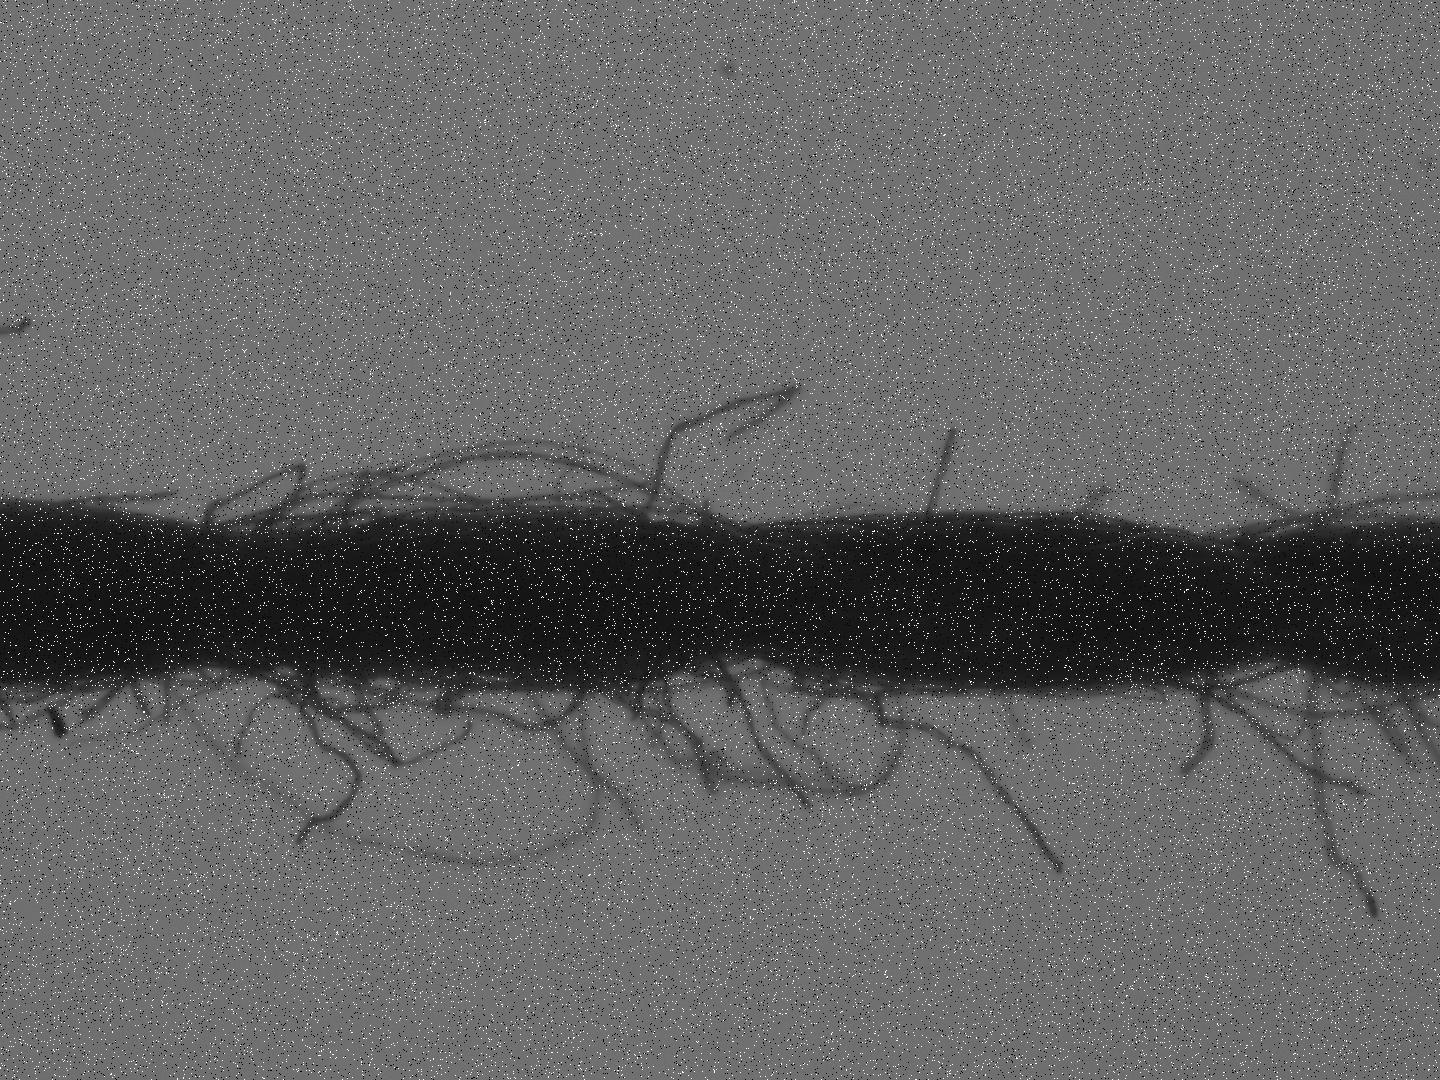loop_fiber: (307, 444, 753, 542), (337, 669, 590, 735), (1209, 666, 1429, 725), (194, 459, 312, 552), (288, 668, 414, 729), (1228, 512, 1404, 549), (660, 644, 740, 718), (1164, 666, 1291, 694), (147, 668, 248, 689)
protruding_fiber: (833, 668, 1071, 884), (915, 416, 966, 547), (1174, 675, 1218, 784), (73, 676, 127, 731)
